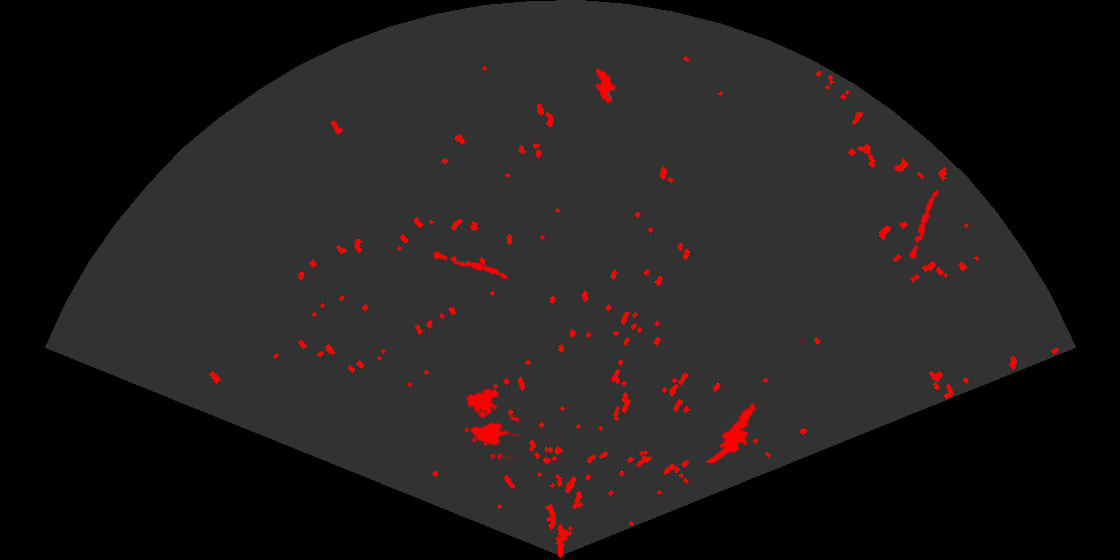AUV: (594, 66, 617, 105)
cage: (462, 387, 519, 459)
chain: (430, 249, 510, 281), (907, 188, 941, 261)
frogman: (706, 402, 758, 463)
